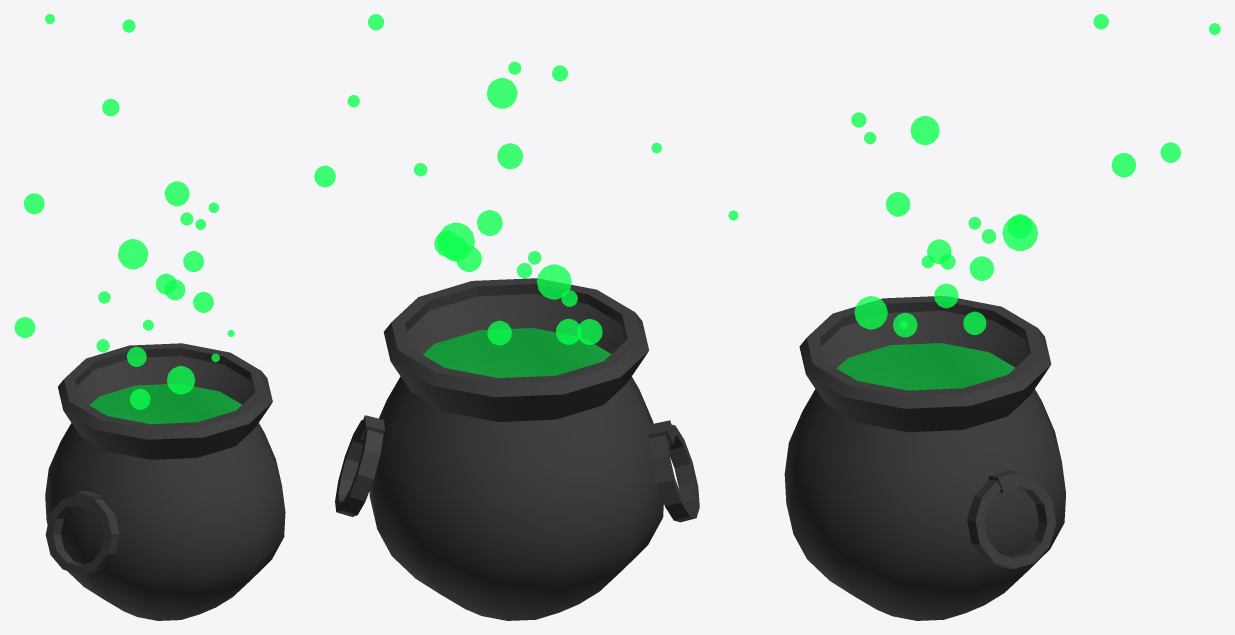
Rendered from Calderone fbx.fbx.
The picture shows the model from 3 angles, left to right: view 1: azimuth 30°, elevation 25°; view 2: azimuth 150°, elevation 25°; view 3: azimuth 270°, elevation 25°; orthographic projection. The views are drawn at different scales.
Visible parts, largest first — view 1: Calderone; view 2: Calderone; view 3: Calderone.
Boxes of the visible parts, <box> form: Calderone: <box>14,14,285,620</box>; Calderone: <box>314,14,699,620</box>; Calderone: <box>728,14,1220,620</box>.
Size of the model in its own units: 162 by 329 by 242.
